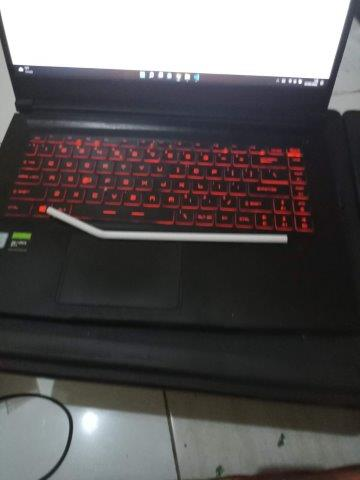sedotan: (46, 207, 287, 243)
